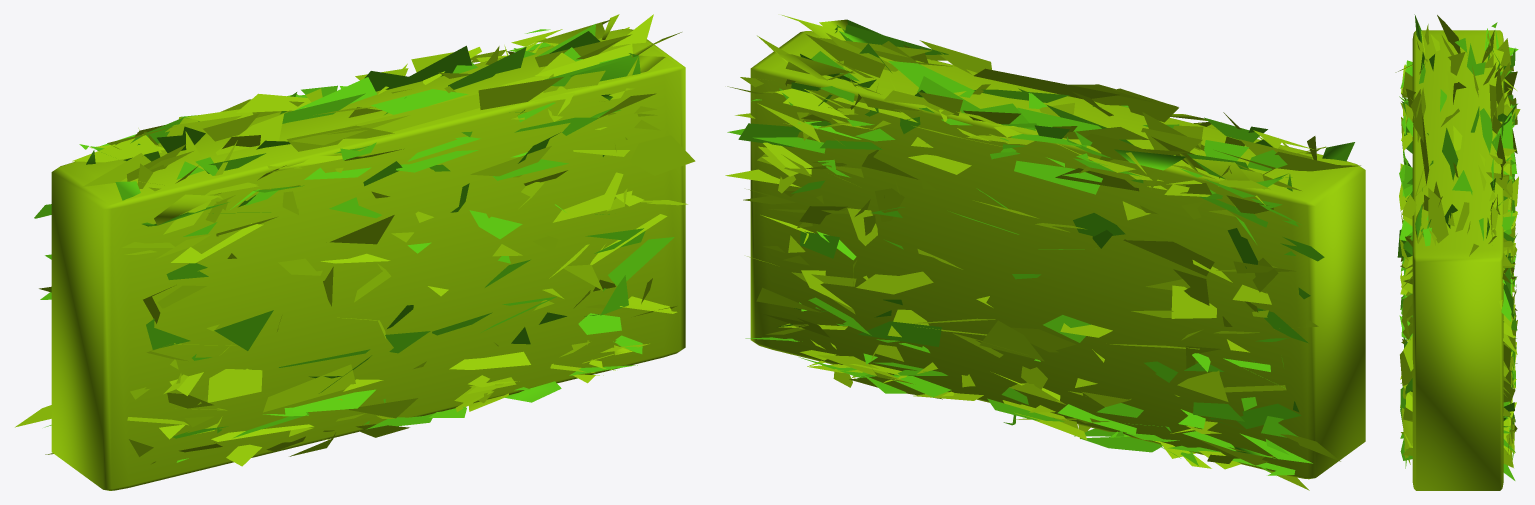
File: muro-de-seto.fbx
3 renders of one model, left to right at view 1: azimuth 30°, elevation 25°; view 2: azimuth 150°, elevation 25°; view 3: azimuth 270°, elevation 25°, orthographic. The views are drawn at different scales.
Parts seen in each view (by area): view 1: muro-seto, hojas; view 2: muro-seto, hojas; view 3: muro-seto, hojas.
Part boxes in pixels (<box>): muro-seto: <box>51,28,685,490</box>; hojas: <box>15,14,695,466</box>; muro-seto: <box>750,31,1365,479</box>; hojas: <box>725,15,1360,490</box>; muro-seto: <box>1412,30,1503,490</box>; hojas: <box>1395,14,1520,480</box>.
Bounding box in the file's own units: 1311 × 661 × 277.
